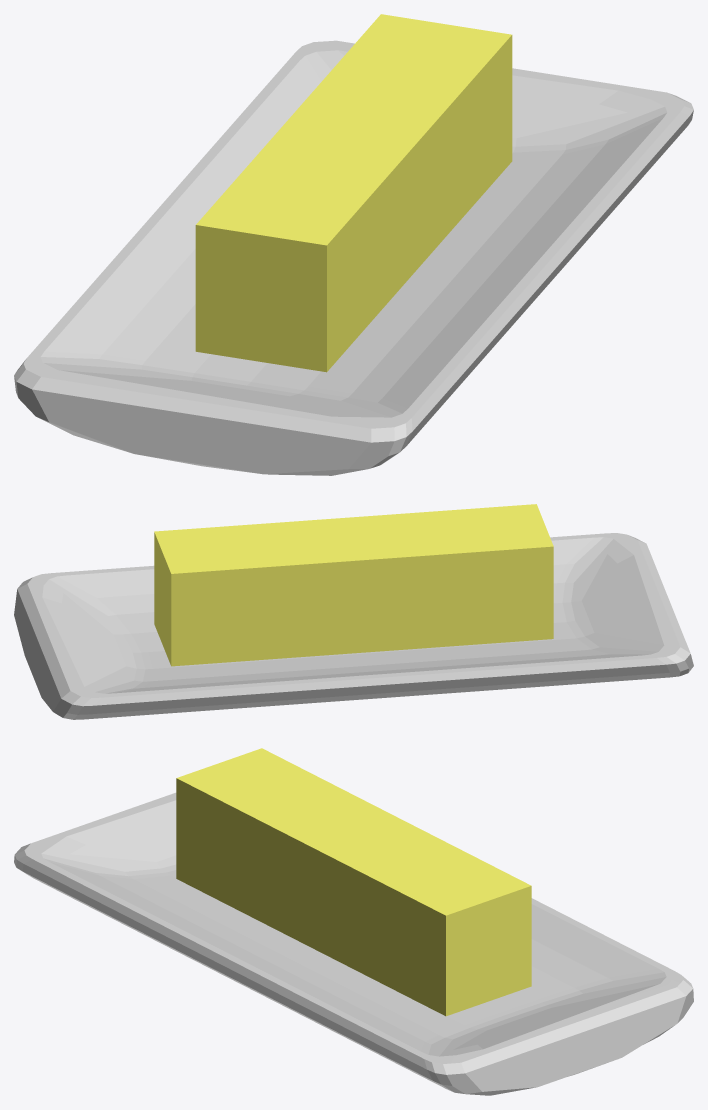
The model's file is mantequilla.fbx.
3 views of the same model, one above another, from view 1: azimuth 30°, elevation 25°; view 2: azimuth 150°, elevation 25°; view 3: azimuth 270°, elevation 25° (orthographic). The views are drawn at different scales.
Visible parts, largest first — view 1: mantequilla; view 2: mantequilla; view 3: mantequilla.
Part boxes in pixels (x1,y1,x2,y2): mantequilla: (14, 14, 693, 475); mantequilla: (14, 504, 693, 719); mantequilla: (14, 748, 693, 1095).
Size of the model in its own units: 35.9 by 7.15 by 33.47.
